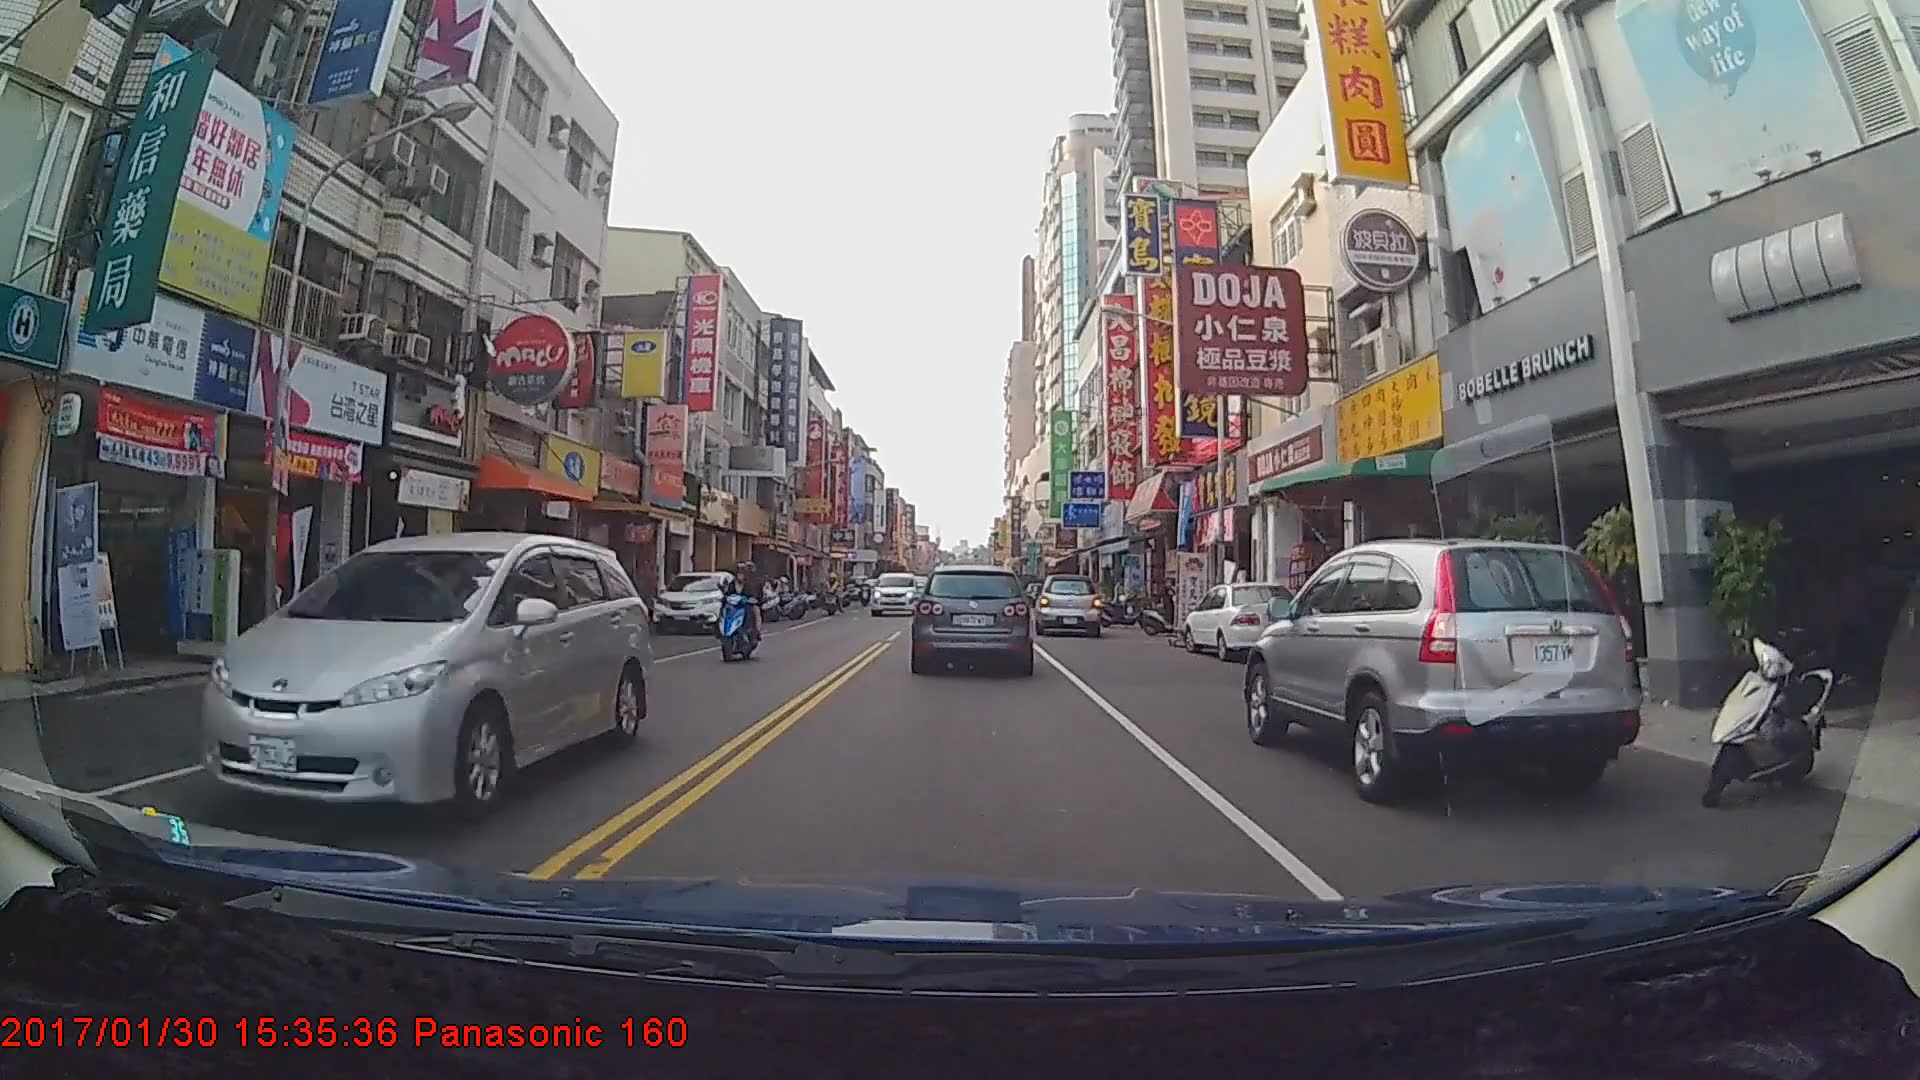rider: (707, 564, 766, 668), (1140, 579, 1196, 639)
vehicle: (197, 531, 654, 822), (1243, 535, 1634, 803), (911, 564, 1032, 673), (1179, 581, 1305, 660), (652, 571, 749, 636), (1035, 572, 1103, 638), (871, 572, 920, 616)
